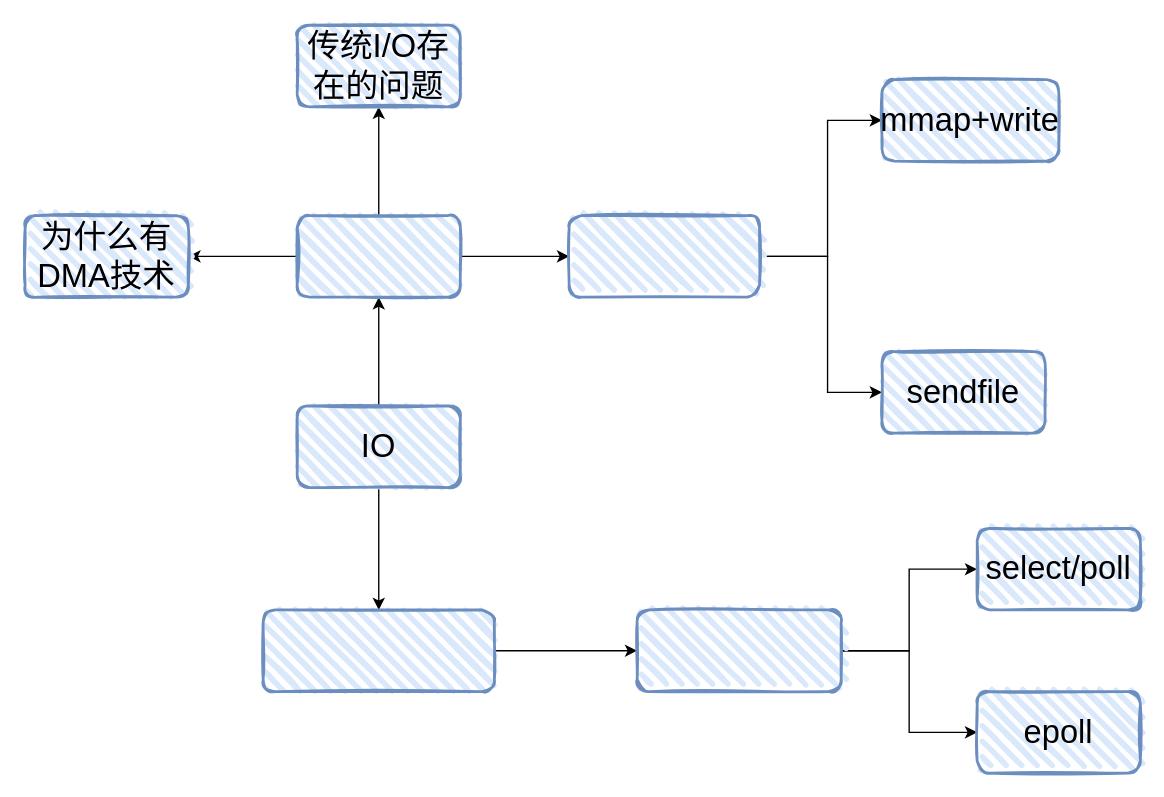
The diagram is 1164 pixels wide and 797 high, and some of its shapes have lost their labels. Here are the shapes that lost their labels. From the top down, the box of each, then its label:
(295, 214, 461, 298): 零拷贝
(567, 214, 760, 298): 实现零拷贝
(261, 608, 495, 692): BIO/NIO/IO多路复用/AIO
(635, 608, 842, 692): IO多路复用
